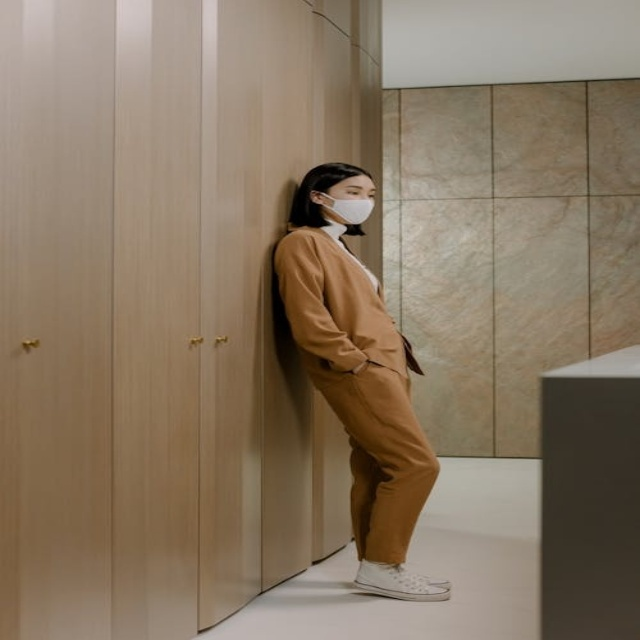Mascara: (317, 192, 375, 225)
Sin_gafas: (339, 182, 375, 199)
